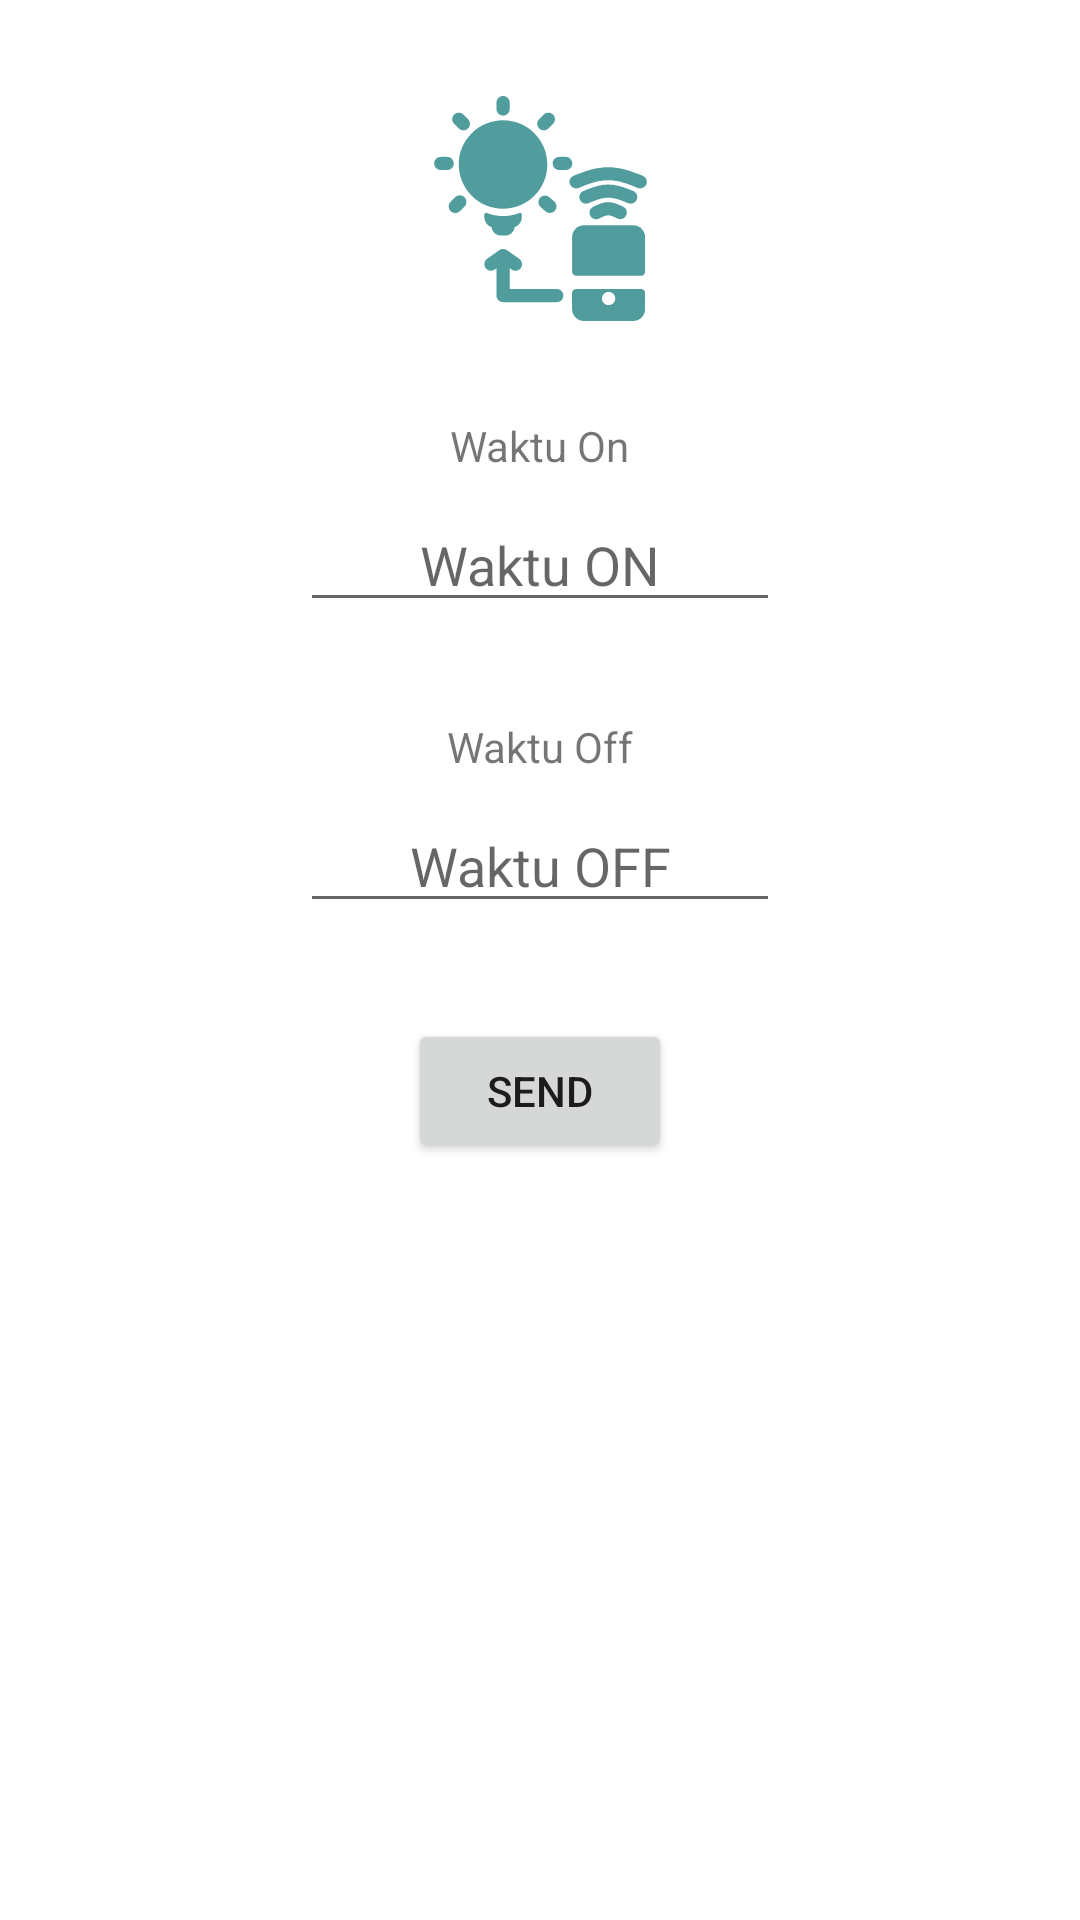

Icon bounding boxes for this 1080*1920 phone screenshot, format (x1, y1, x2, y2):
wireless: (434, 96, 647, 321)
